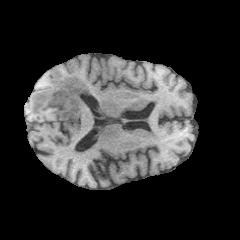glioma: (30, 75, 92, 120)
